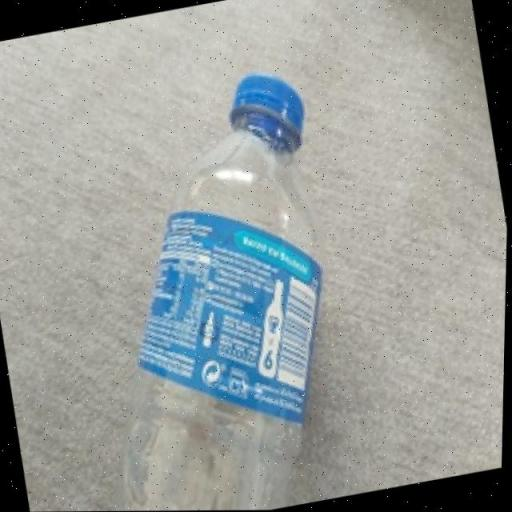plastic: (116, 67, 324, 511)
